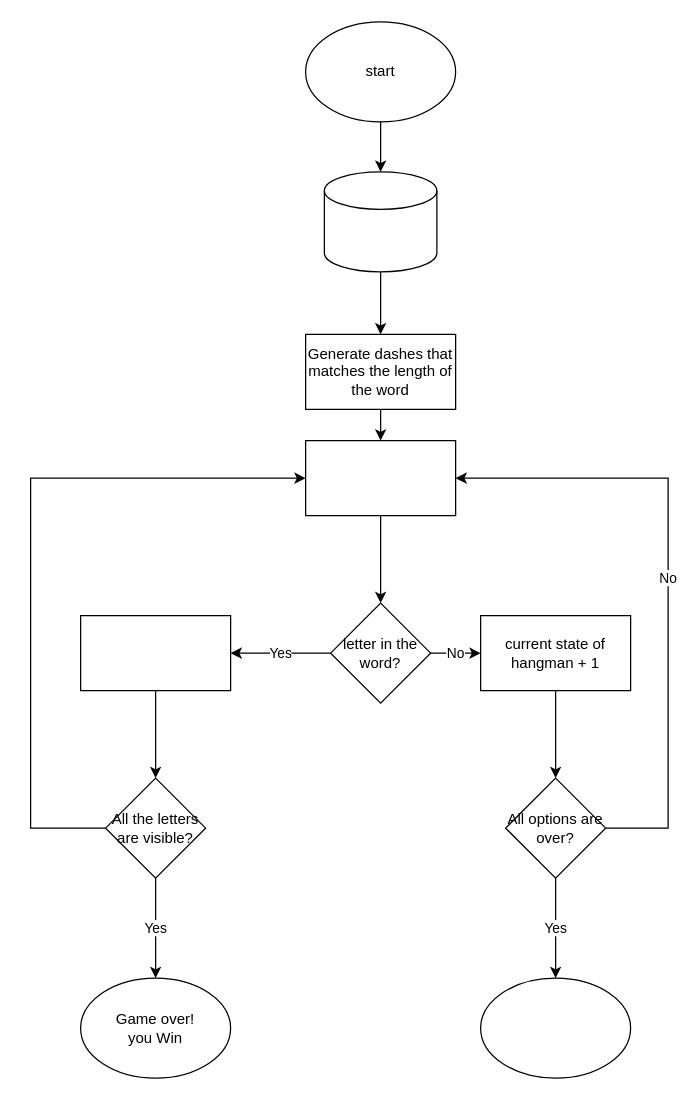
Image size: 700x1100. Some labels were removed from this diagram. Here are the shapes that lost their labels. From the top down, the centre of each, then its label:
point 380,221: dictionary random word
point 380,477: collect user input
point 155,652: display the letter by replacing the dash
point 555,1027: Game over! you lose!
